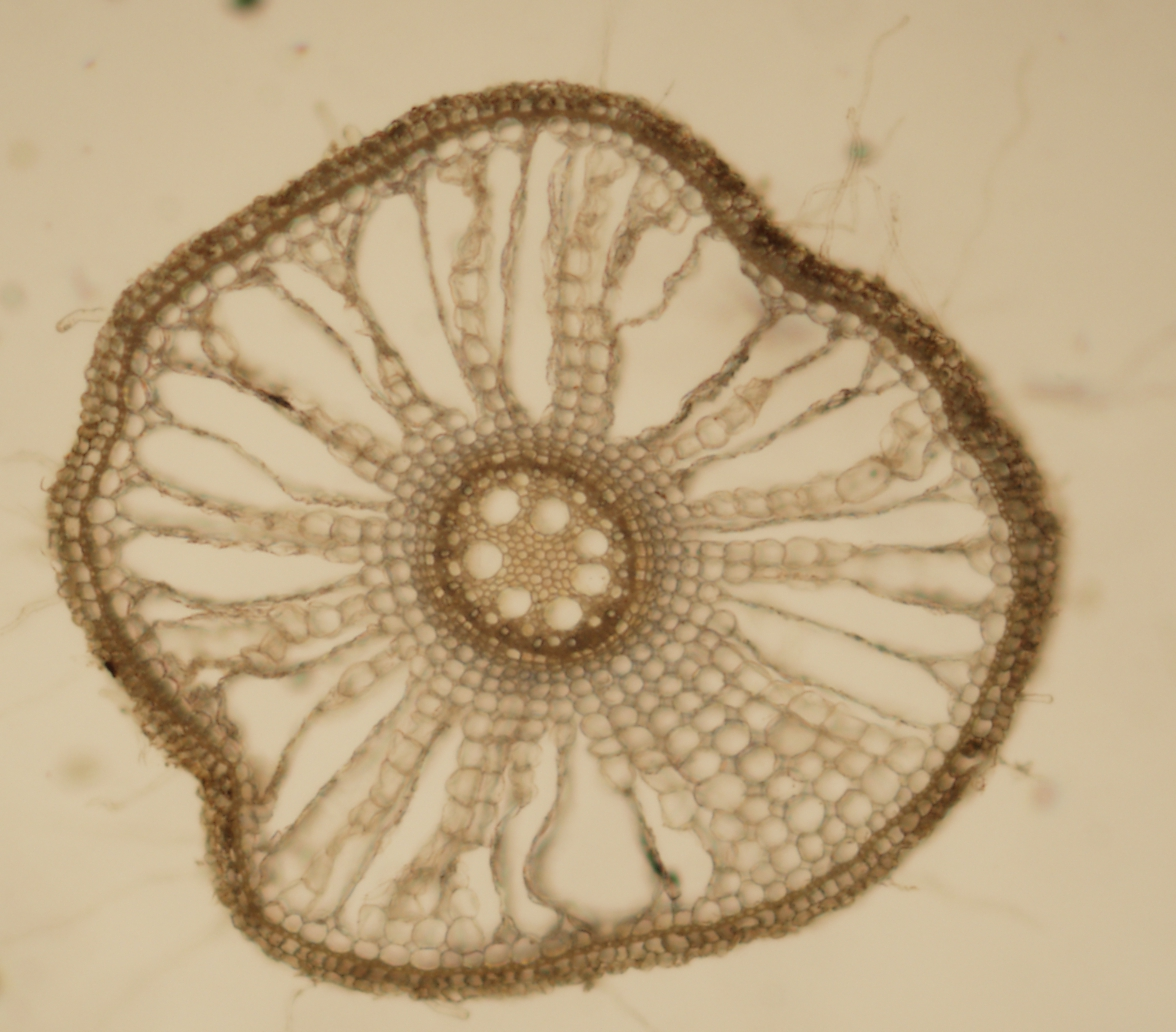lm: (477, 486, 521, 526), (462, 539, 503, 580), (529, 496, 570, 535), (543, 597, 583, 630), (570, 563, 610, 596), (496, 587, 532, 619), (573, 528, 609, 558)
